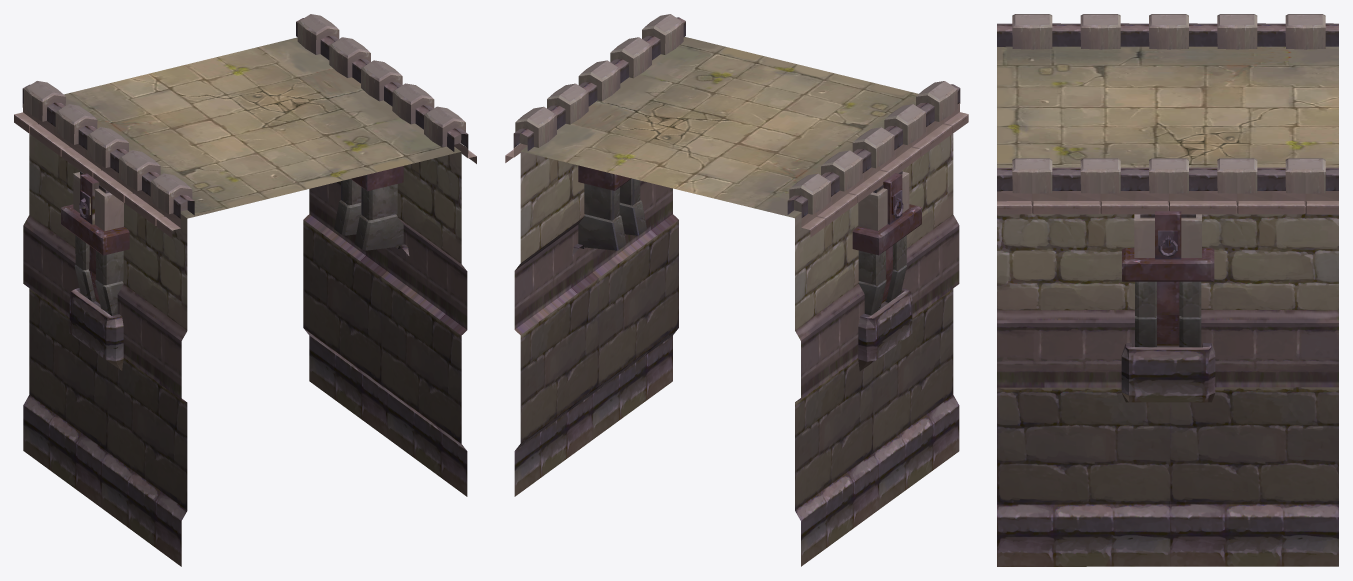
File: idle_ground_10_02.fbx
The picture shows the model from 3 angles, left to right: view 1: azimuth 30°, elevation 25°; view 2: azimuth 150°, elevation 25°; view 3: azimuth 270°, elevation 25°; orthographic projection. The views are drawn at different scales.
Parts seen in each view (by area): view 1: pingtai10_02; view 2: pingtai10_02; view 3: pingtai10_02.
Part boxes in pixels (<box>): pingtai10_02: <box>14,14,476,566</box>; pingtai10_02: <box>505,14,968,566</box>; pingtai10_02: <box>997,14,1338,566</box>.
Size of the model in its own units: 1203 by 1306 by 1000.
1 material, 1 textured.
